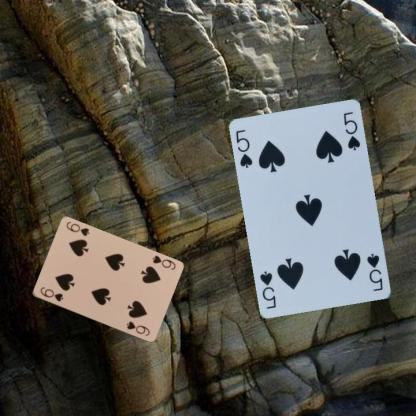5s: (234, 127, 254, 170), (365, 251, 384, 293)
6s: (37, 284, 64, 303), (150, 252, 176, 271)
